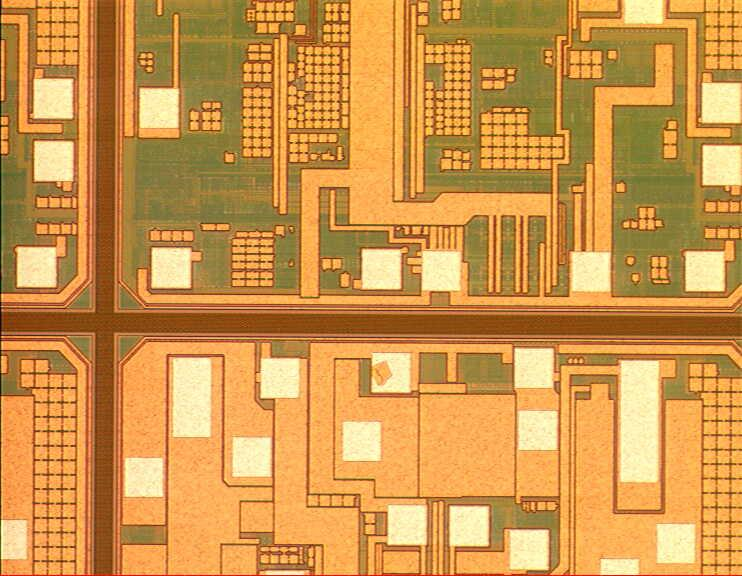BLOCK ETCH: (366, 359, 398, 391)
